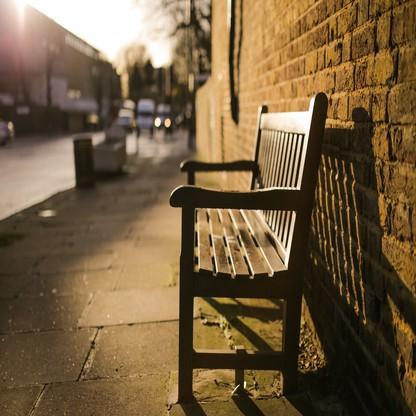obstacle: (161, 106, 342, 400)
